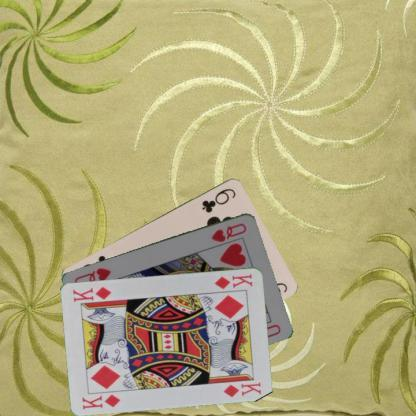6c: (199, 185, 237, 214)
Kd: (80, 387, 123, 411), (212, 271, 254, 290)
Qh: (208, 220, 248, 243)
